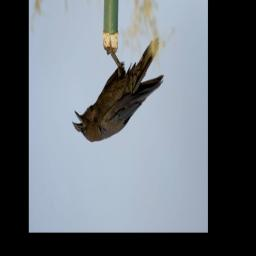Crow: (71, 37, 166, 148)
